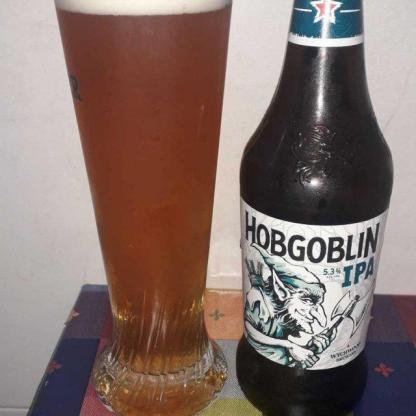Can: (238, 0, 396, 416)
